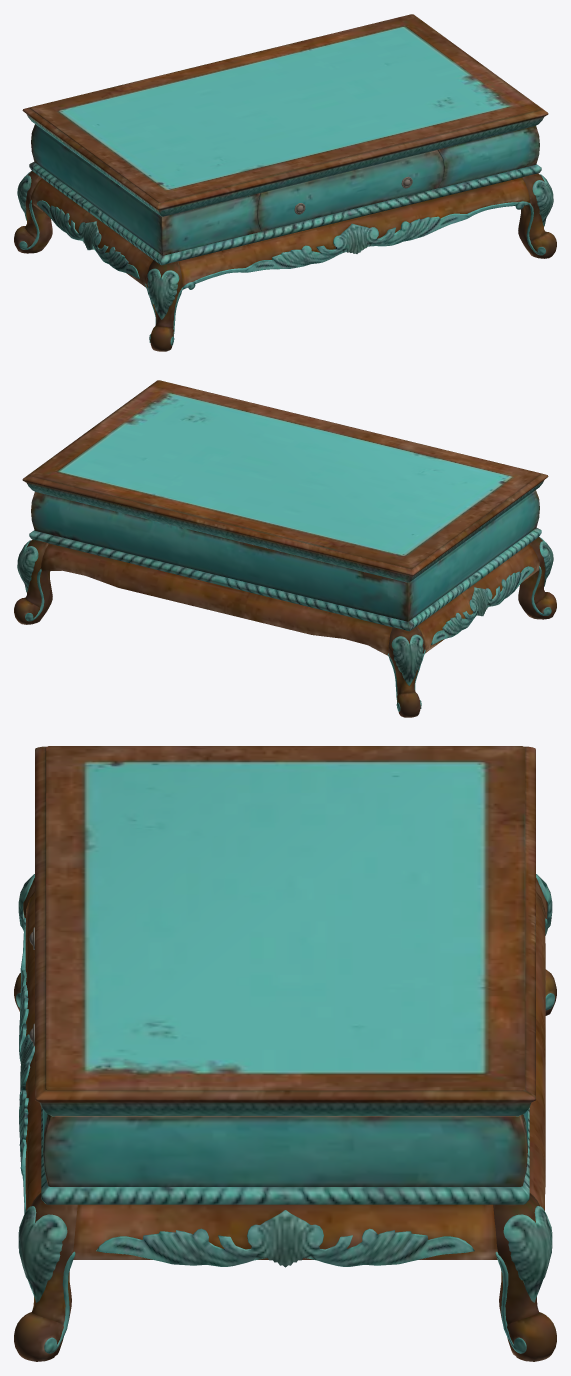
Rendered from CoffeeTable_01.glb.
The picture shows the model from 3 angles, top to bottom: view 1: azimuth 30°, elevation 25°; view 2: azimuth 150°, elevation 25°; view 3: azimuth 270°, elevation 25°; orthographic projection. The views are drawn at different scales.
Parts seen in each view (by area): view 1: CoffeeTable_01; view 2: CoffeeTable_01; view 3: CoffeeTable_01.
Part boxes in pixels (bbox=[...]): CoffeeTable_01: bbox=[14, 14, 556, 351]; CoffeeTable_01: bbox=[14, 380, 556, 717]; CoffeeTable_01: bbox=[14, 746, 556, 1361].
Bounding box in the file's own units: 1.54 × 0.5232 × 0.9728.
Materials: 1 (1 with a texture image).
